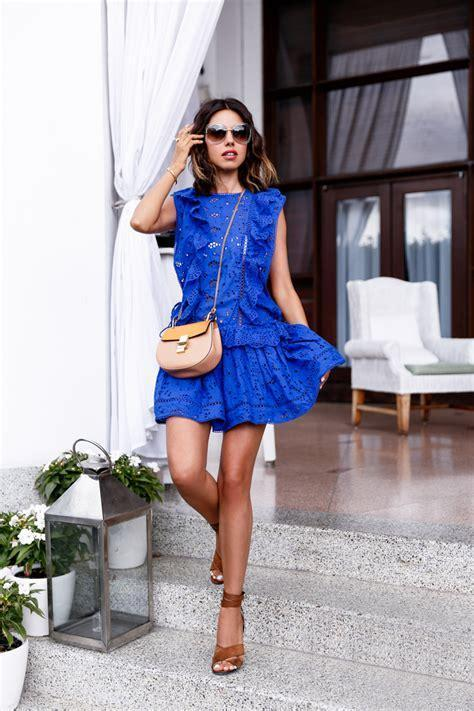dress: (154, 186, 345, 432)
